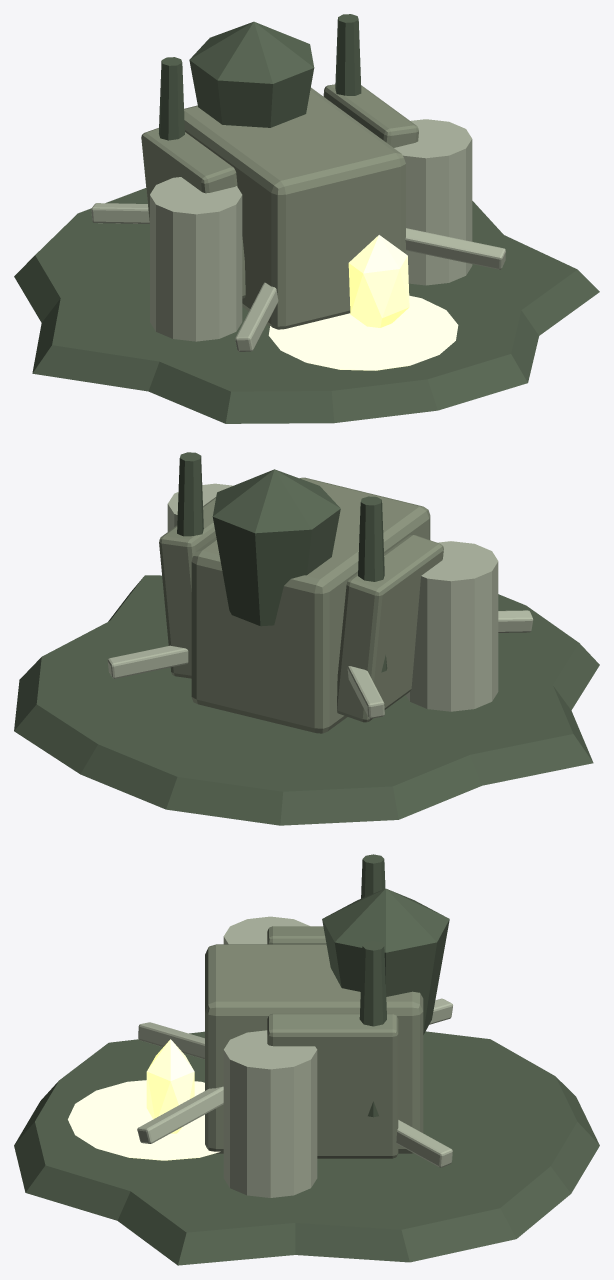
The model's file is toxic-expanse-lod1.glb.
3 renders of one model, top to bottom at view 1: azimuth 30°, elevation 25°; view 2: azimuth 150°, elevation 25°; view 3: azimuth 270°, elevation 25°, orthographic. The views are drawn at different scales.
Visible parts, largest first — view 1: STONE_TERRAIN_SOCKET, STONE_REFINERY_NAVE, METAL_REACTOR_TANK_-1, DARK_REFINERY_APSE, METAL_REACTOR_TANK_1, EMISSIVE_TOXIC_RESERVOIR, FX_TOXIC_VAPOR, STONE_NAVE_BUTTRESS_-1, STONE_NAVE_BUTTRESS_1, METAL_COLLAPSED_GANTRY_3, METAL_SMOKE_STACK_-1, METAL_SMOKE_STACK_1 (+2 smaller); view 2: STONE_TERRAIN_SOCKET, STONE_REFINERY_NAVE, DARK_REFINERY_APSE, METAL_REACTOR_TANK_-1, STONE_NAVE_BUTTRESS_-1, STONE_NAVE_BUTTRESS_1, METAL_SMOKE_STACK_-1, METAL_SMOKE_STACK_1, METAL_COLLAPSED_GANTRY_0, METAL_COLLAPSED_GANTRY_1, METAL_COLLAPSED_GANTRY_2, METAL_REACTOR_TANK_1; view 3: STONE_TERRAIN_SOCKET, STONE_REFINERY_NAVE, METAL_REACTOR_TANK_1, STONE_NAVE_BUTTRESS_1, DARK_REFINERY_APSE, EMISSIVE_TOXIC_RESERVOIR, FX_TOXIC_VAPOR, METAL_SMOKE_STACK_1, METAL_COLLAPSED_GANTRY_3, METAL_REACTOR_TANK_-1, METAL_COLLAPSED_GANTRY_0, METAL_COLLAPSED_GANTRY_2 (+2 smaller).
Boxes of the visible parts, x1,y1,x2,y2 form: STONE_TERRAIN_SOCKET: [14, 188, 599, 423]; STONE_REFINERY_NAVE: [184, 87, 405, 329]; METAL_REACTOR_TANK_-1: [150, 177, 242, 341]; DARK_REFINERY_APSE: [189, 21, 314, 127]; METAL_REACTOR_TANK_1: [394, 119, 472, 285]; EMISSIVE_TOXIC_RESERVOIR: [268, 295, 458, 370]; FX_TOXIC_VAPOR: [348, 235, 409, 327]; STONE_NAVE_BUTTRESS_-1: [141, 128, 245, 298]; STONE_NAVE_BUTTRESS_1: [323, 84, 418, 147]; METAL_COLLAPSED_GANTRY_3: [405, 228, 505, 269]; METAL_SMOKE_STACK_-1: [159, 57, 184, 140]; METAL_SMOKE_STACK_1: [335, 14, 361, 95]; STONE_TERRAIN_SOCKET: [14, 575, 599, 825]; STONE_REFINERY_NAVE: [191, 477, 430, 733]; DARK_REFINERY_APSE: [212, 469, 340, 626]; METAL_REACTOR_TANK_-1: [406, 541, 498, 711]; STONE_NAVE_BUTTRESS_-1: [337, 535, 443, 722]; STONE_NAVE_BUTTRESS_1: [159, 497, 216, 678]; METAL_SMOKE_STACK_-1: [358, 496, 387, 672]; METAL_SMOKE_STACK_1: [177, 452, 203, 536]; METAL_COLLAPSED_GANTRY_0: [107, 645, 188, 678]; METAL_COLLAPSED_GANTRY_1: [347, 666, 384, 718]; METAL_COLLAPSED_GANTRY_2: [498, 610, 533, 632]; METAL_REACTOR_TANK_1: [167, 483, 232, 531]; STONE_TERRAIN_SOCKET: [14, 1031, 599, 1265]; STONE_REFINERY_NAVE: [205, 944, 423, 1153]; METAL_REACTOR_TANK_1: [223, 1030, 317, 1197]; STONE_NAVE_BUTTRESS_1: [267, 1013, 398, 1158]; DARK_REFINERY_APSE: [322, 888, 449, 1034]; EMISSIVE_TOXIC_RESERVOIR: [68, 1080, 220, 1160]; FX_TOXIC_VAPOR: [146, 1039, 194, 1133]; METAL_SMOKE_STACK_1: [359, 941, 386, 1117]; METAL_COLLAPSED_GANTRY_3: [137, 1086, 223, 1143]; METAL_REACTOR_TANK_-1: [223, 916, 309, 944]; METAL_COLLAPSED_GANTRY_0: [396, 1120, 452, 1167]; METAL_COLLAPSED_GANTRY_2: [138, 1022, 204, 1059].
Size of the model in its own units: 1.91 by 0.9096 by 1.88.
